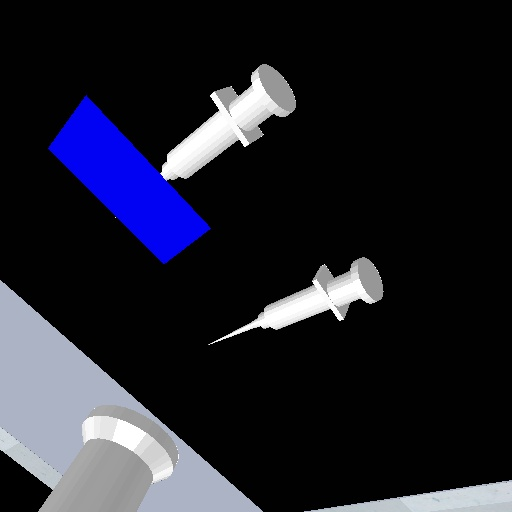jeringuilla: (155, 58, 302, 186), (196, 254, 388, 350)
